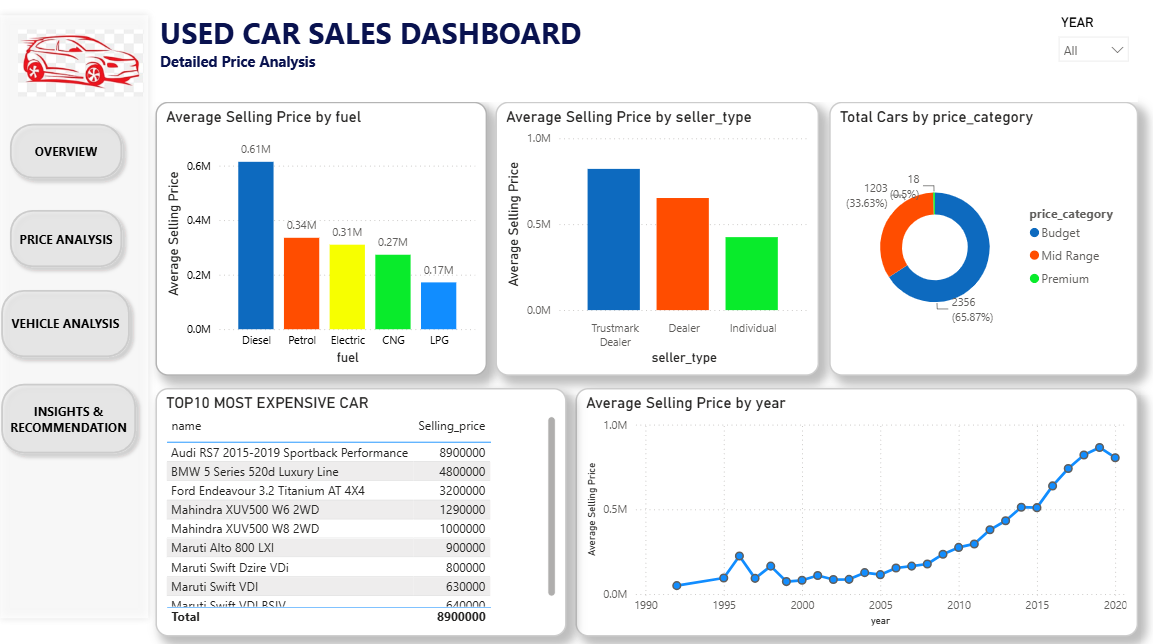

Layout of this report page (visuals, bound fields, positions):
{"tool":"powerbi","page":{"name":"PRICE ANALYSIS","canvas":[1280,720],"ordinal":1},"visuals":[{"type":"columnChart","fields":{"Category":["public car.fuel"],"Y":["public car.Average Selling Price"]},"box":[178.4,119.4,363.6,300.5],"z":0},{"type":"columnChart","fields":{"Y":["public car.Average Selling Price"],"Category":["public car.seller_type"]},"box":[551.6,119.4,355.4,300.5],"z":1000},{"type":"donutChart","fields":{"Category":["public car.price_category"],"Y":["public car.Total Cars"]},"box":[918,119.4,338.9,300.5],"z":2000},{"type":"lineChart","fields":{"Category":["public car.year"],"Y":["public car.Average Selling Price"]},"box":[639.5,433.6,617.5,273.1],"z":3000},{"type":"tableEx","title":"TOP10 MOST EXPENSIVE CAR","fields":{"Values":["public car.name","Max(public car.selling_price)"]},"box":[178.4,433.6,451.5,273.1],"z":4000},{"type":"textbox","box":[178.4,16.5,1078.6,102.9],"z":5000},{"type":"slicer","fields":{"Values":["public car.year"]},"box":[1159.5,19.2,97.4,61.7],"z":6000},{"type":"shape","box":[0,16.5,178.4,677.9],"z":7000},{"type":"actionButton","box":[9.6,229.2,141.3,81],"z":8000},{"type":"actionButton","box":[9.6,134.5,141.3,78.2],"z":9000},{"type":"actionButton","box":[0,317,159.2,91.9],"z":10000},{"type":"actionButton","box":[0,419.9,166,94.7],"z":11000},{"type":"image","box":[27.4,19.2,138.6,115.3],"z":12000}]}

Visuals, with their boxes on the page's 1280x720 design canvas (x1, y1, x2, y2). These are canvas units, not pixel positions in the 1153x644 screenshot, which may show the page scaled, cropped or inside an application window:
columnChart - public car.fuel x public car.Average Selling Price: bbox=[178, 119, 542, 420]
columnChart - public car.Average Selling Price x public car.seller_type: bbox=[552, 119, 907, 420]
donutChart - public car.price_category x public car.Total Cars: bbox=[918, 119, 1257, 420]
lineChart - public car.year x public car.Average Selling Price: bbox=[640, 434, 1257, 707]
"TOP10 MOST EXPENSIVE CAR" tableEx: bbox=[178, 434, 630, 707]
textbox: bbox=[178, 16, 1257, 119]
slicer - public car.year: bbox=[1160, 19, 1257, 81]
shape: bbox=[0, 16, 178, 694]
actionButton: bbox=[10, 229, 151, 310]
actionButton: bbox=[10, 134, 151, 213]
actionButton: bbox=[0, 317, 159, 409]
actionButton: bbox=[0, 420, 166, 515]
image: bbox=[27, 19, 166, 134]
